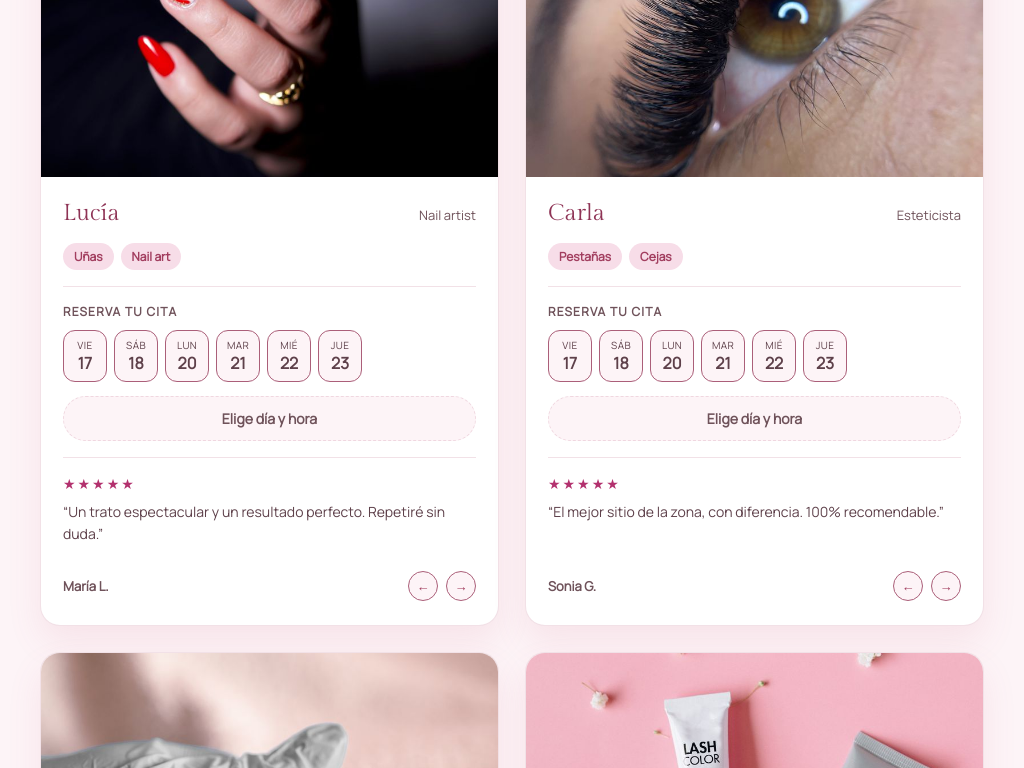
@s17 confirmar sustituye el calendario por el mensaje de confirmación › @s17 al reservar aparece el mensaje, el subtexto y "Cambiar", y desaparecen los chips
(page scrolled)
Click the button "mié 22" below "Lucía" at (289, 356), box x1=267 y1=330 x2=311 y2=382
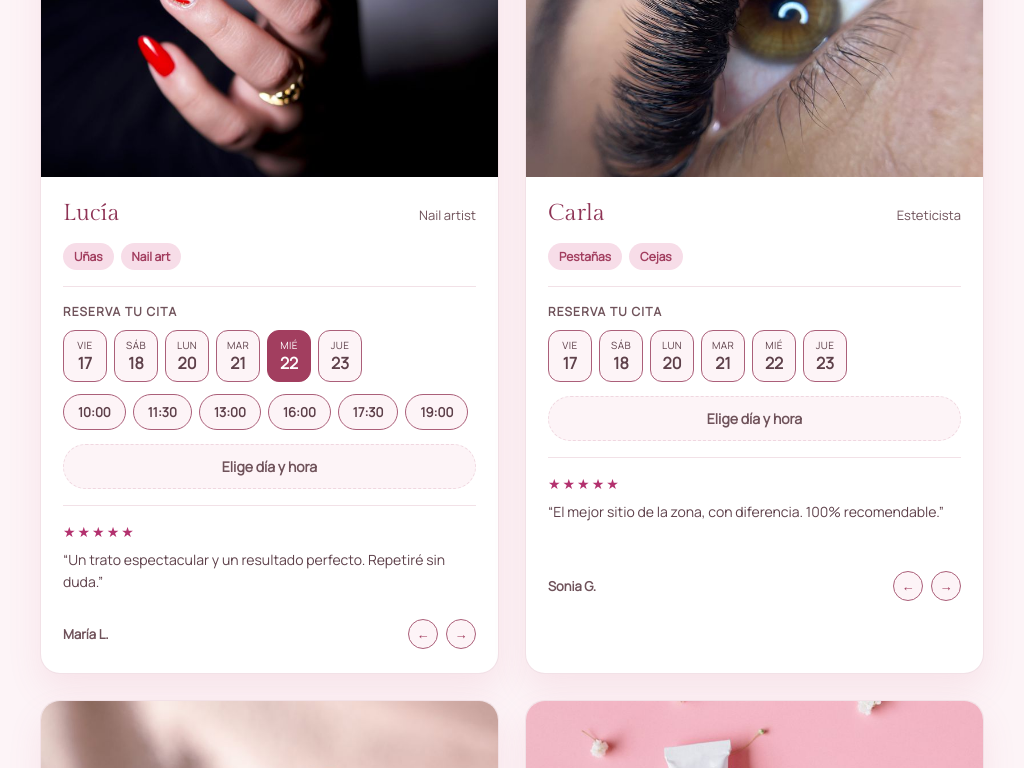
Click the button "16:00" at (299, 412), box x1=268 y1=394 x2=331 y2=430
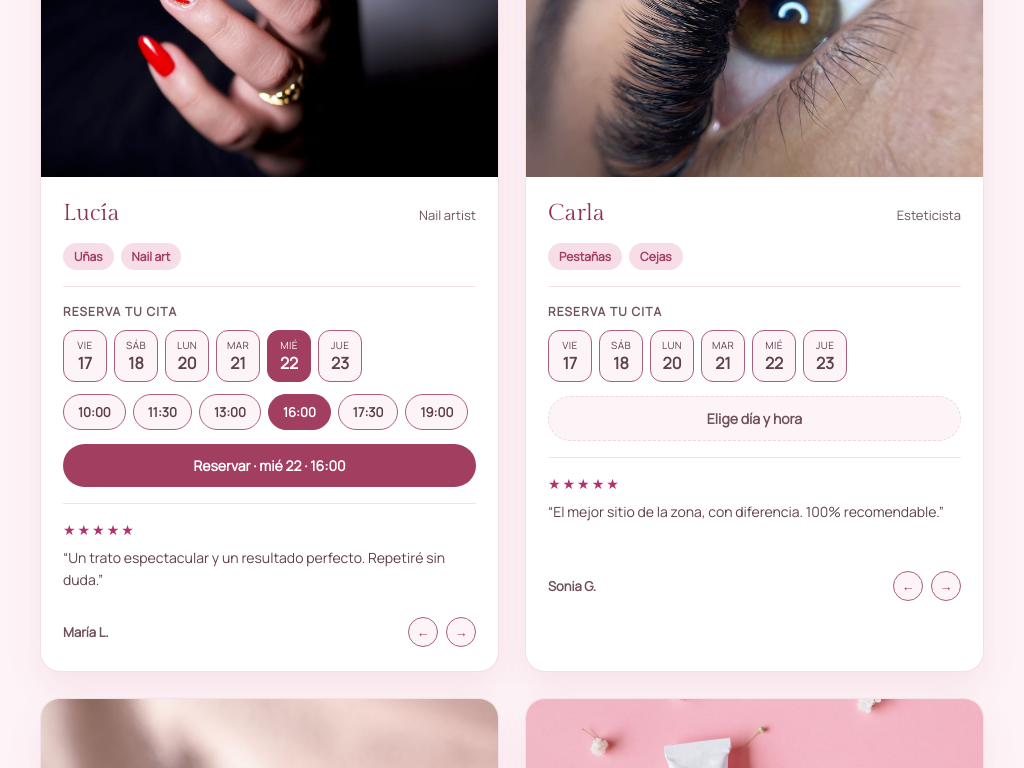
Click the button "Reservar · mié 22 · 16:00" at (270, 466), box x1=63 y1=444 x2=476 y2=487
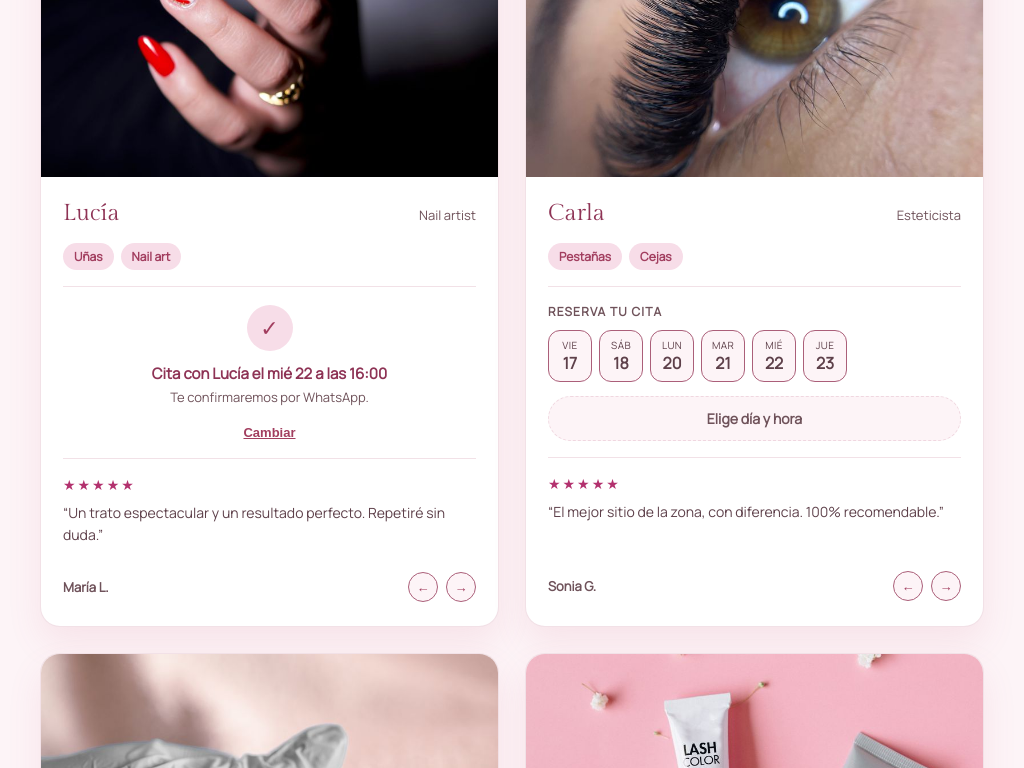
Expected: the text "Cita con Lucía el mié 22 a las 16:00" is shown, x1=152 y1=363 x2=387 y2=384
Expected: the text "Te confirmaremos por WhatsApp." is shown, x1=170 y1=388 x2=369 y2=406
Expected: the button "Cambiar" is shown, x1=238 y1=424 x2=302 y2=441
